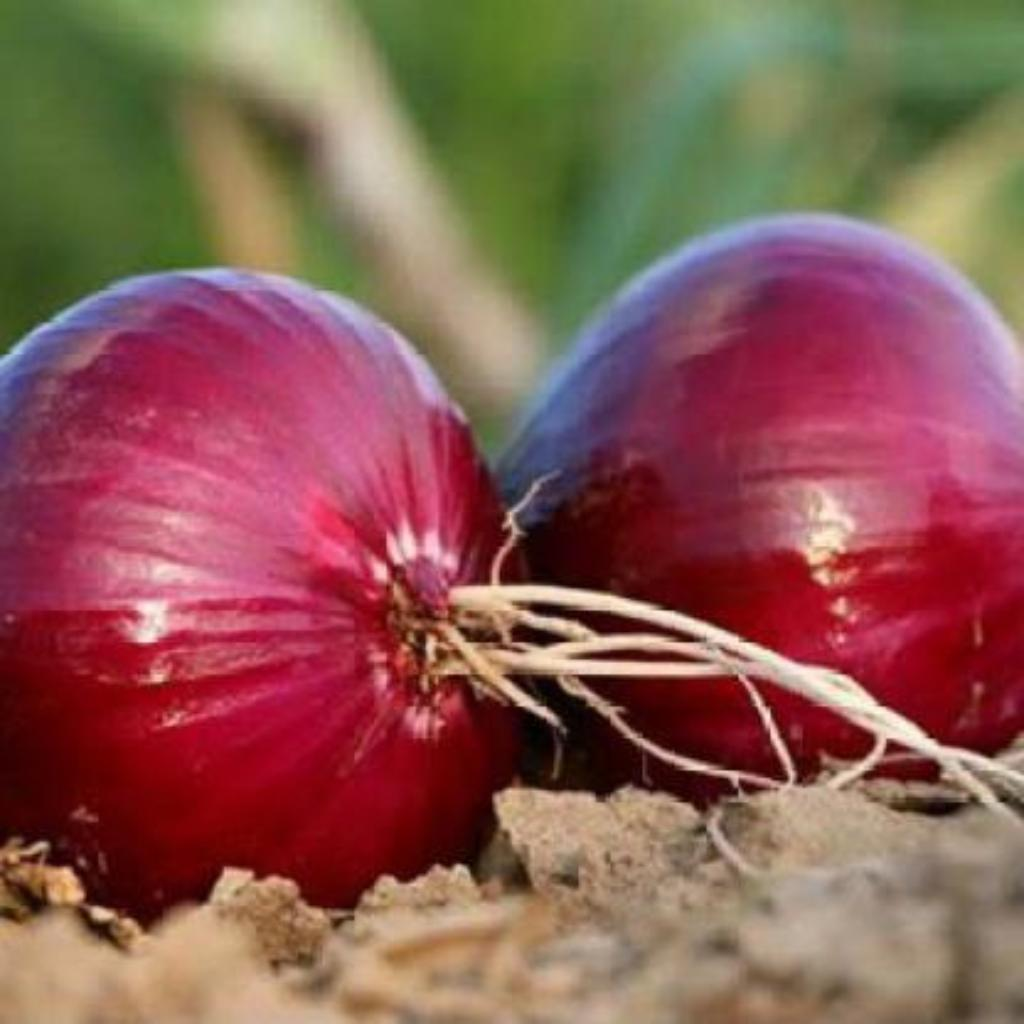Onion: (0, 271, 514, 914), (500, 217, 1024, 752)
